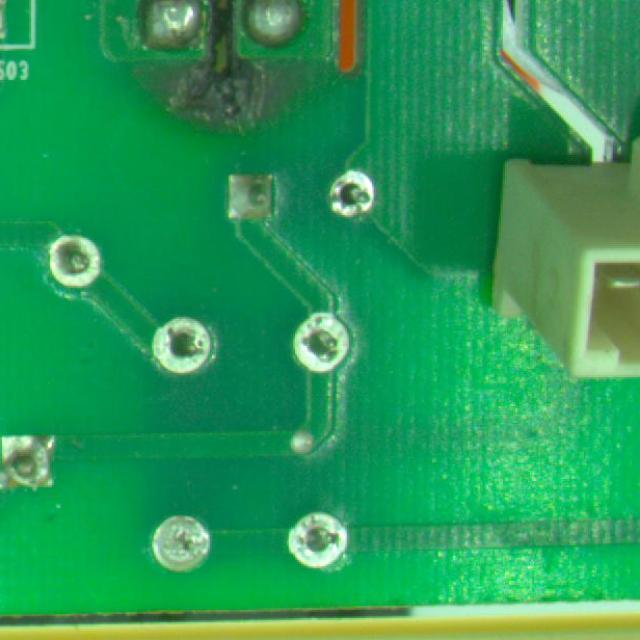Insufficient solder: (282, 498, 350, 572), (148, 310, 214, 380), (144, 508, 217, 570), (290, 310, 350, 382), (40, 230, 111, 288), (326, 170, 382, 222)
